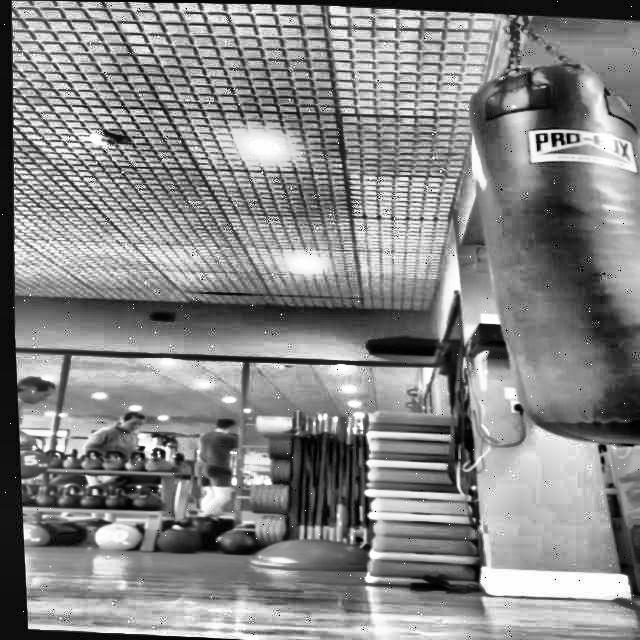boxing-bag: (456, 11, 640, 444)
